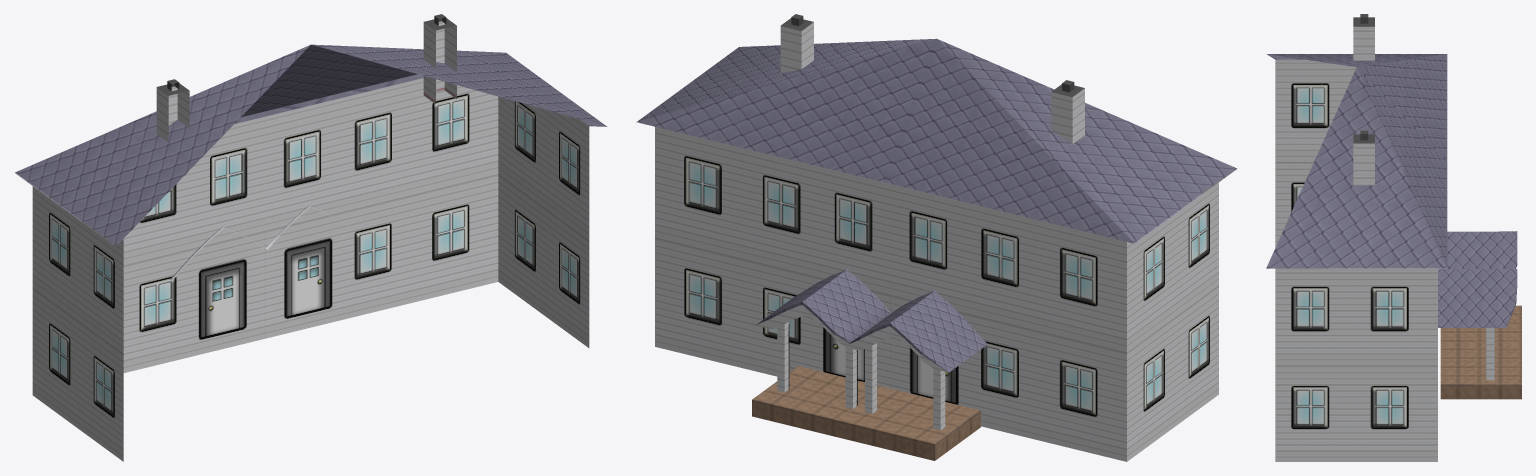
The model's file is House_03.FBX.
3 views of the same model, side by side, from view 1: azimuth 30°, elevation 25°; view 2: azimuth 150°, elevation 25°; view 3: azimuth 270°, elevation 25° (orthographic). The views are drawn at different scales.
Visible parts, largest first — view 1: House_03, Chimneys; view 2: House_03, Terrace, Ground, Chimneys; view 3: House_03, Terrace, Ground, Chimneys.
Boxes of the visible parts, x1,y1,x2,y2 form: House_03: (15,44,607,461); Chimneys: (156,14,456,142); House_03: (636,38,1237,461); Terrace: (755,269,987,430); Ground: (752,366,980,460); Chimneys: (780,14,1084,144); House_03: (1266,54,1447,461); Terrace: (1438,231,1517,380); Ground: (1440,305,1521,399); Chimneys: (1353,14,1374,185).
Size of the model in its own units: 125 by 80.52 by 62.93.
